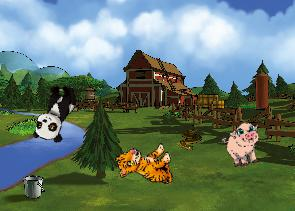panda: (30, 79, 80, 146)
pig: (220, 120, 267, 170)
tiger: (113, 137, 178, 196)
